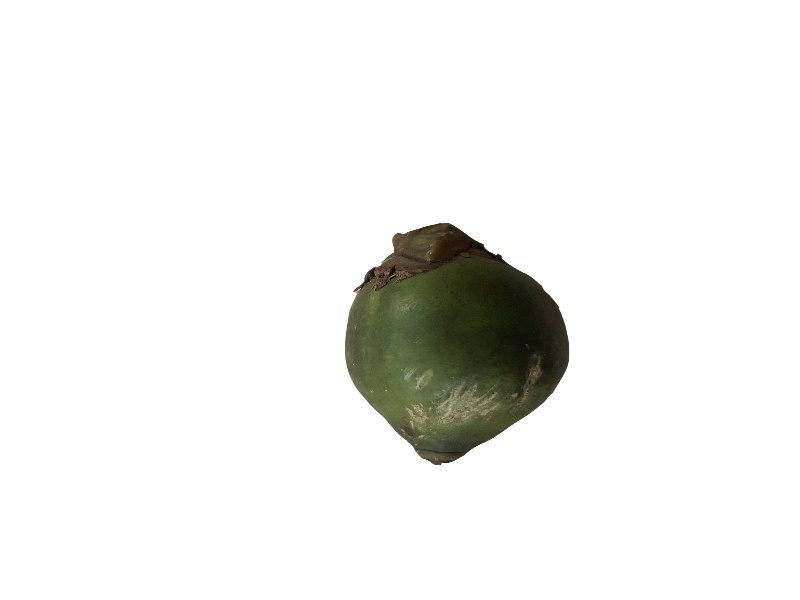arecanut: (339, 222, 579, 472)
